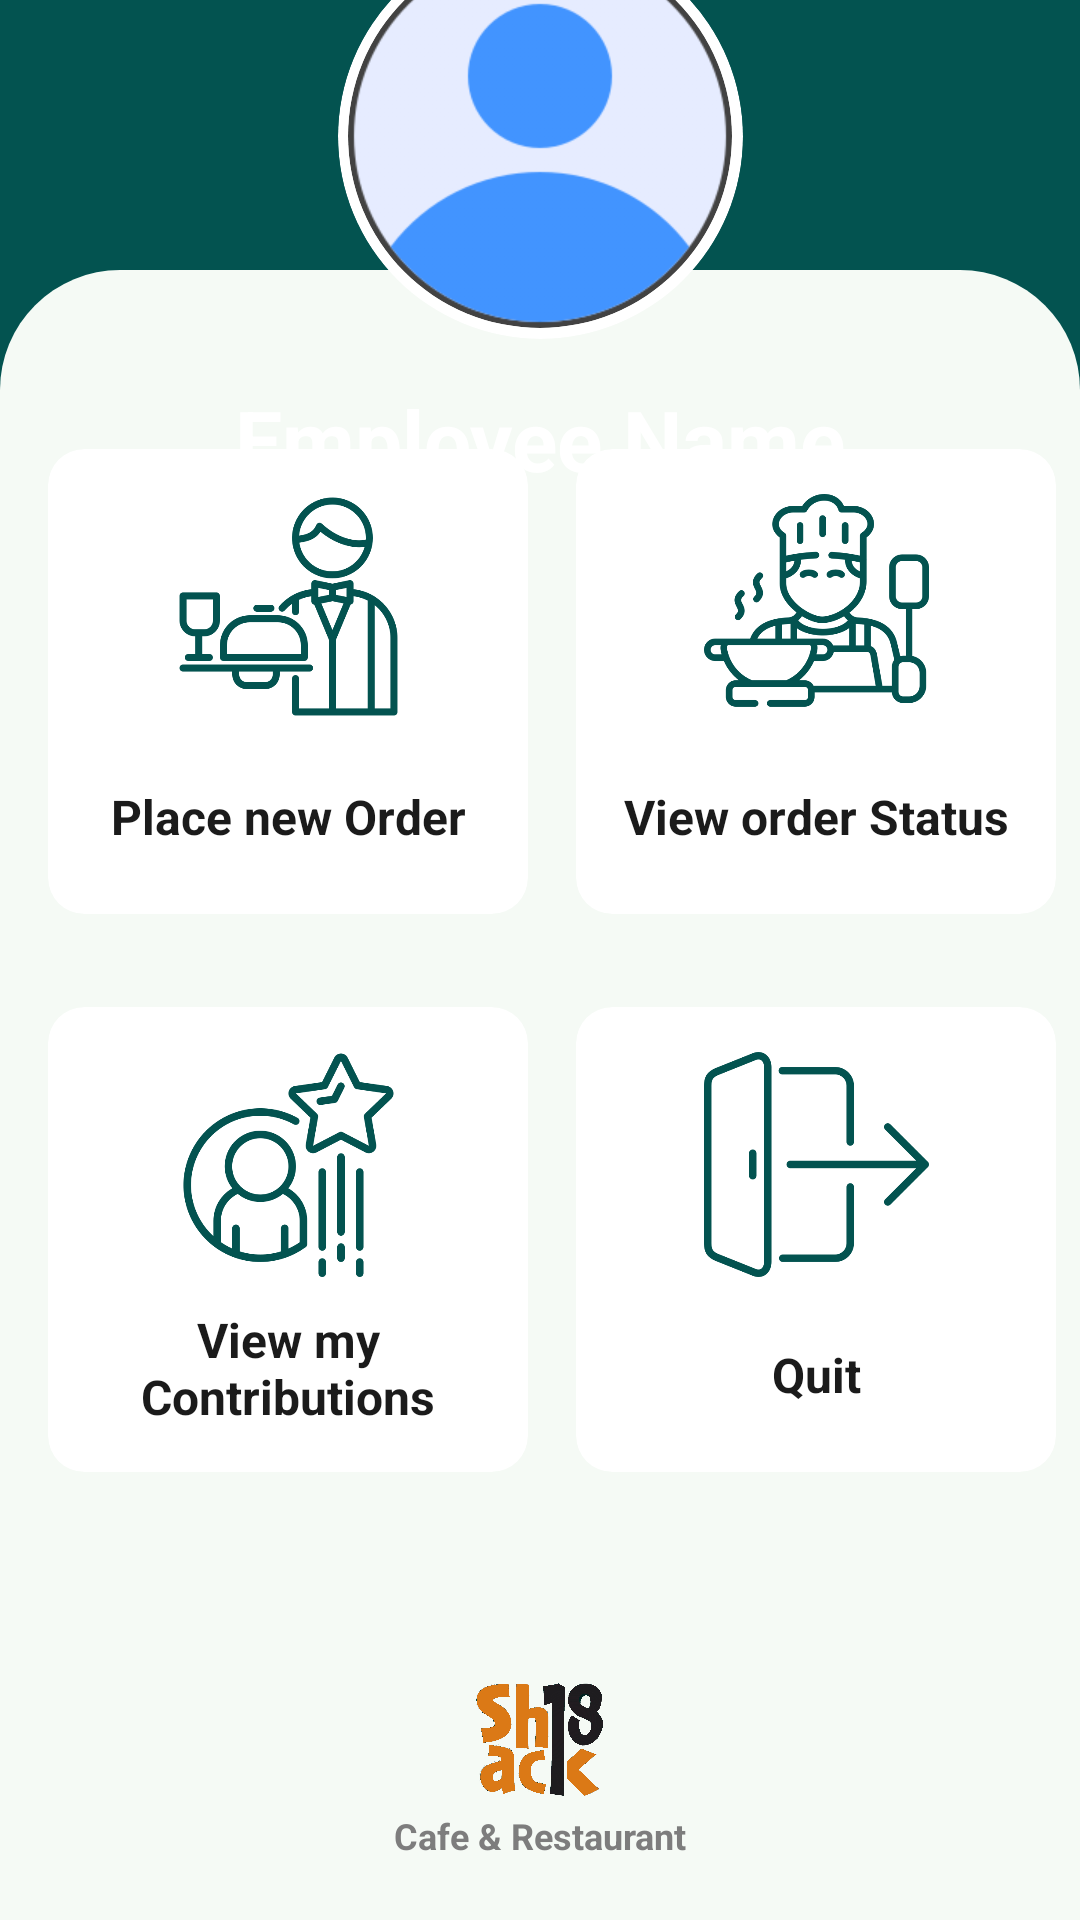

Icons on this 1080 x 1920 Android screen, each with the point to tap as [x,y]:
cooking: [816,600]
waiter: [288,606]
